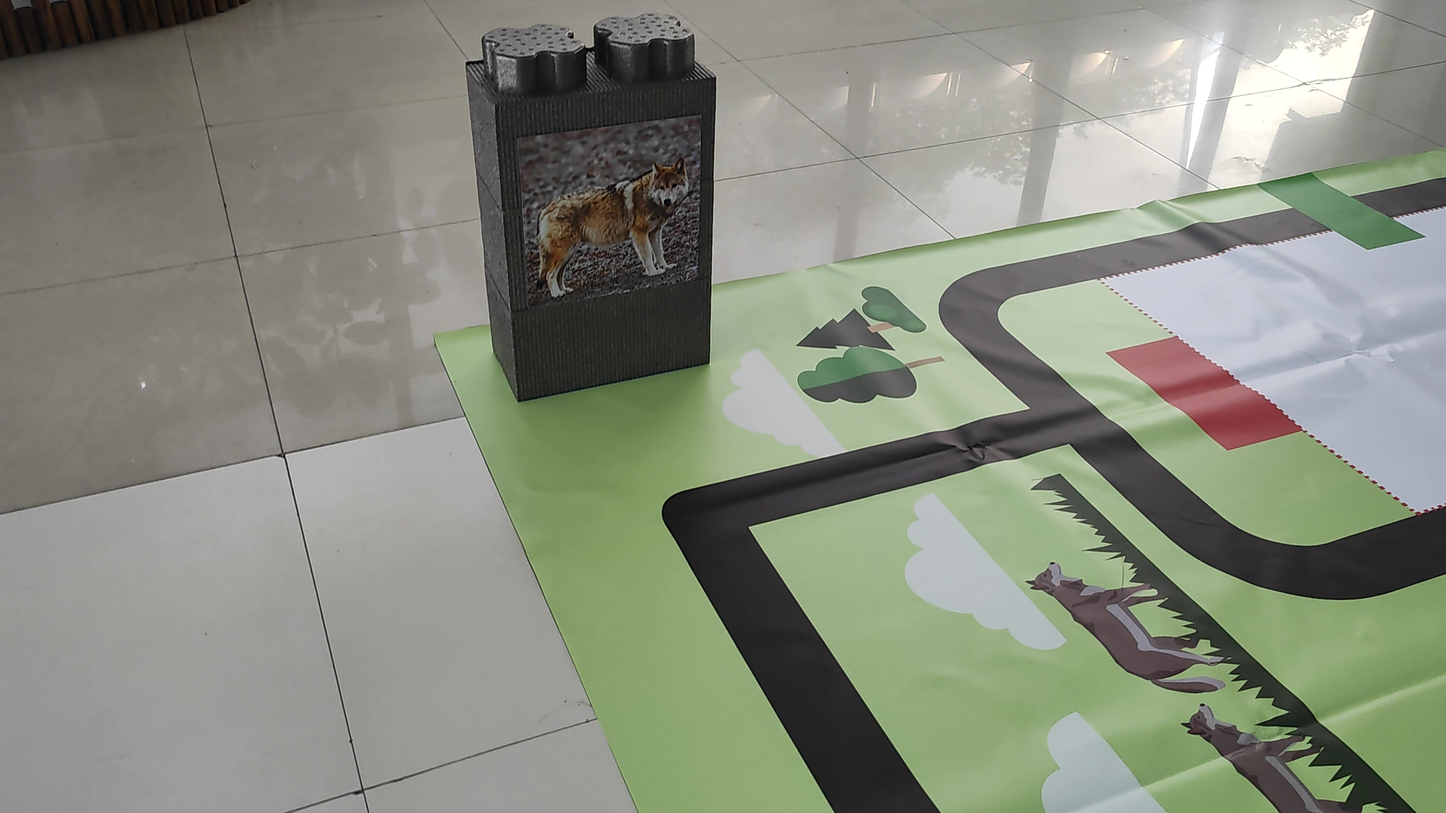wolf: (511, 150, 703, 314)
